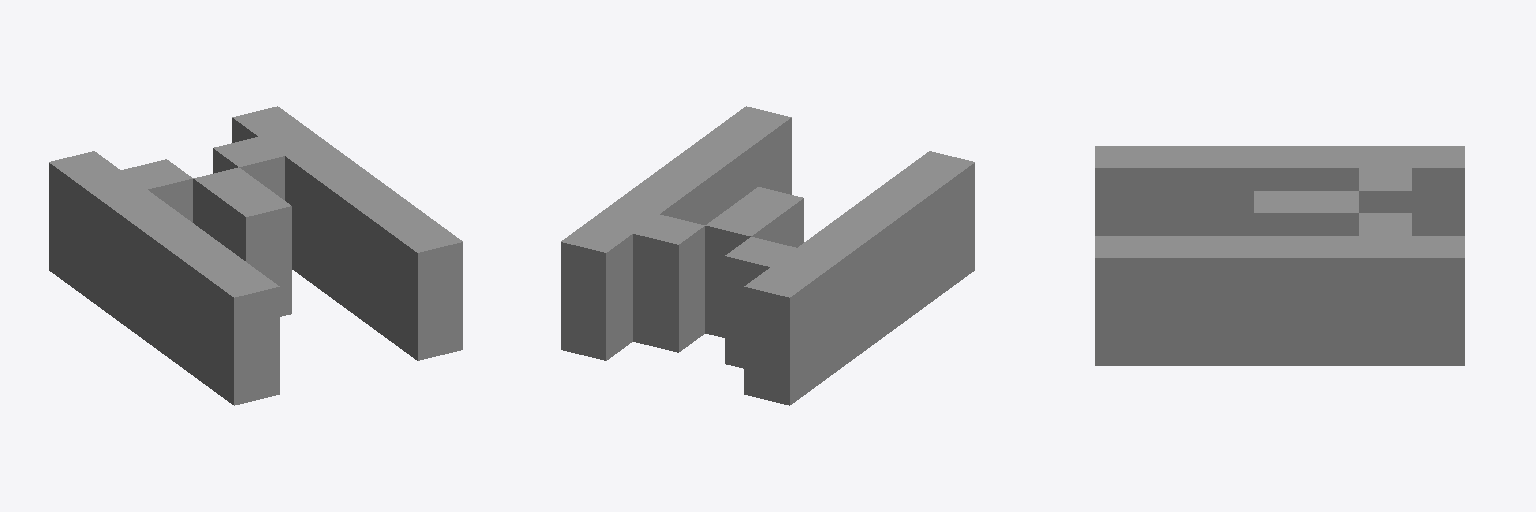
3 renders of one model, left to right at view 1: azimuth 30°, elevation 25°; view 2: azimuth 150°, elevation 25°; view 3: azimuth 270°, elevation 25°, orthographic.
Visible parts, largest first — view 1: M_CUABC.013; view 2: M_CUABC.013; view 3: M_CUABC.013.
Part boxes in pixels (x1,y1,x2,y2): M_CUABC.013: (49,106,462,405); M_CUABC.013: (561,106,974,405); M_CUABC.013: (1095,146,1464,365).
Size of the model in its own units: 0.5556 by 0.25 by 0.7778.